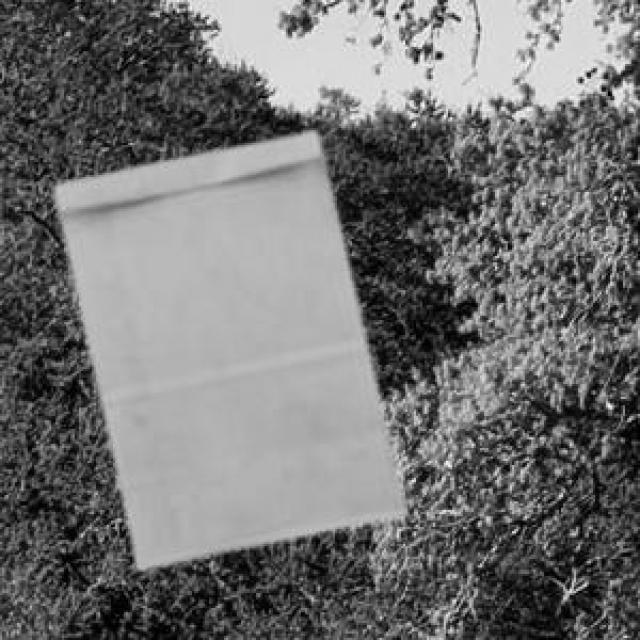paper: (51, 128, 401, 565)
